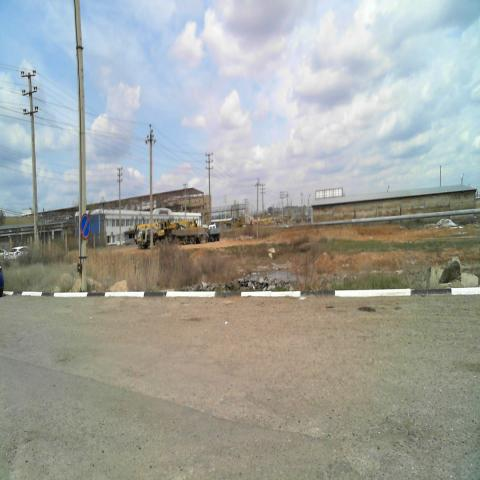3_28: (80, 212, 90, 241)
